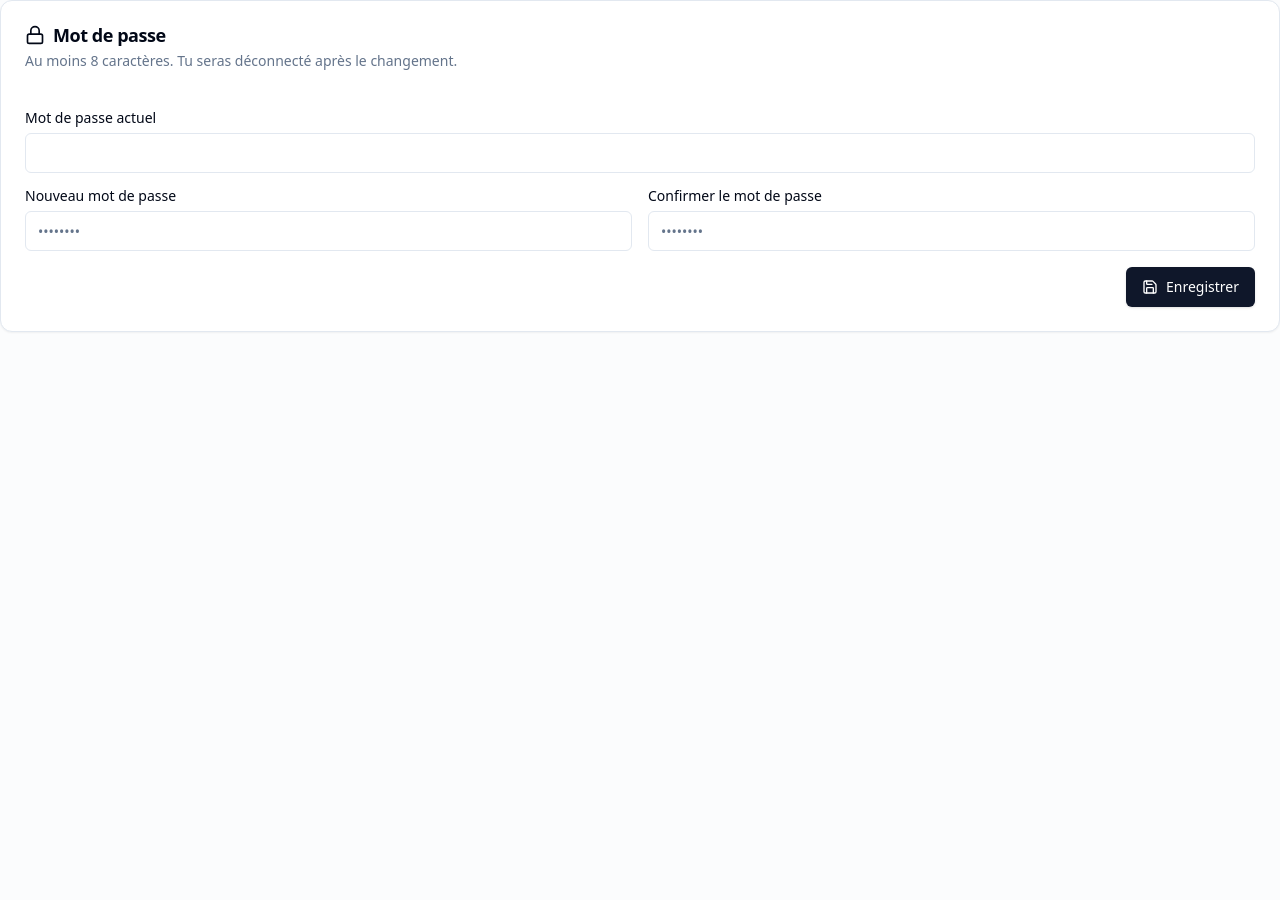
PasswordCard › sans mot de passe actuel : message, aucune requête
Type "nouveau-secret" into the password field labelled "Nouveau mot de passe".
click(328, 231); type("nouveau-secret")  # box left=25, top=211, right=632, bottom=251
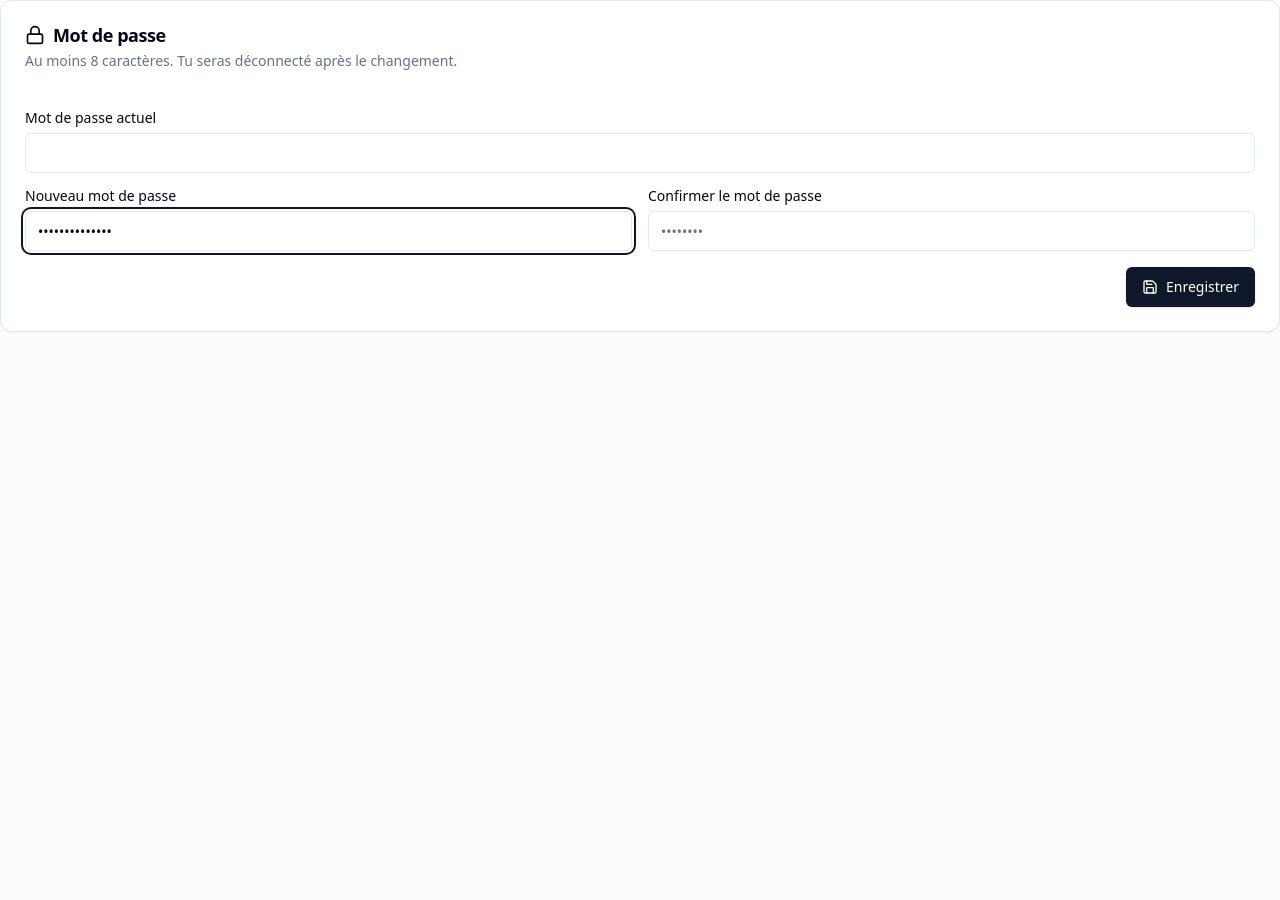
Type "nouveau-secret" into the password field labelled "Confirmer le mot de passe".
click(952, 231); type("nouveau-secret")  # box left=648, top=211, right=1255, bottom=251
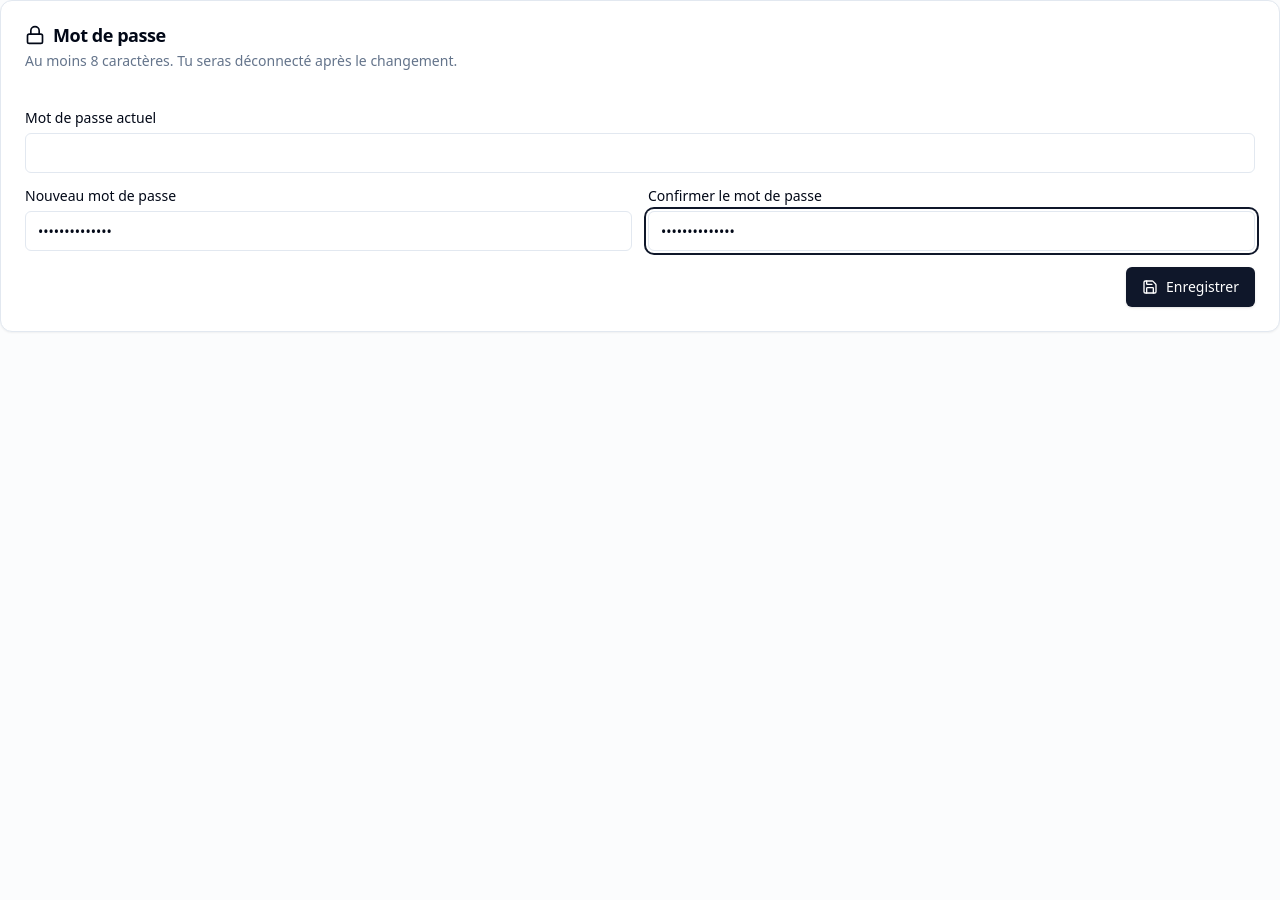
Click the button "Enregistrer".
click(1190, 287)  # box left=1126, top=267, right=1255, bottom=307
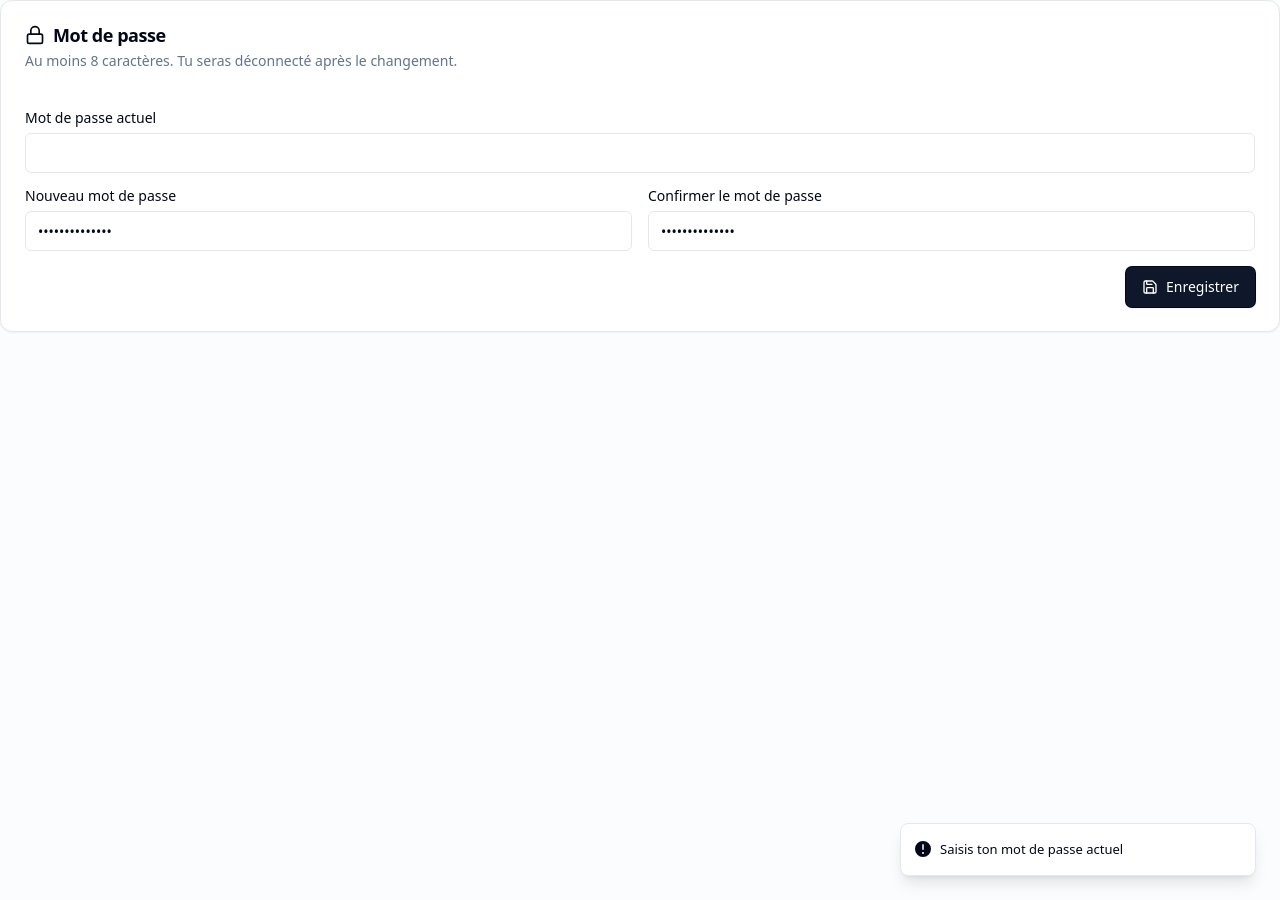
Expected: the text "Saisis ton mot de passe actuel" is shown, left=940, top=840, right=1123, bottom=859
